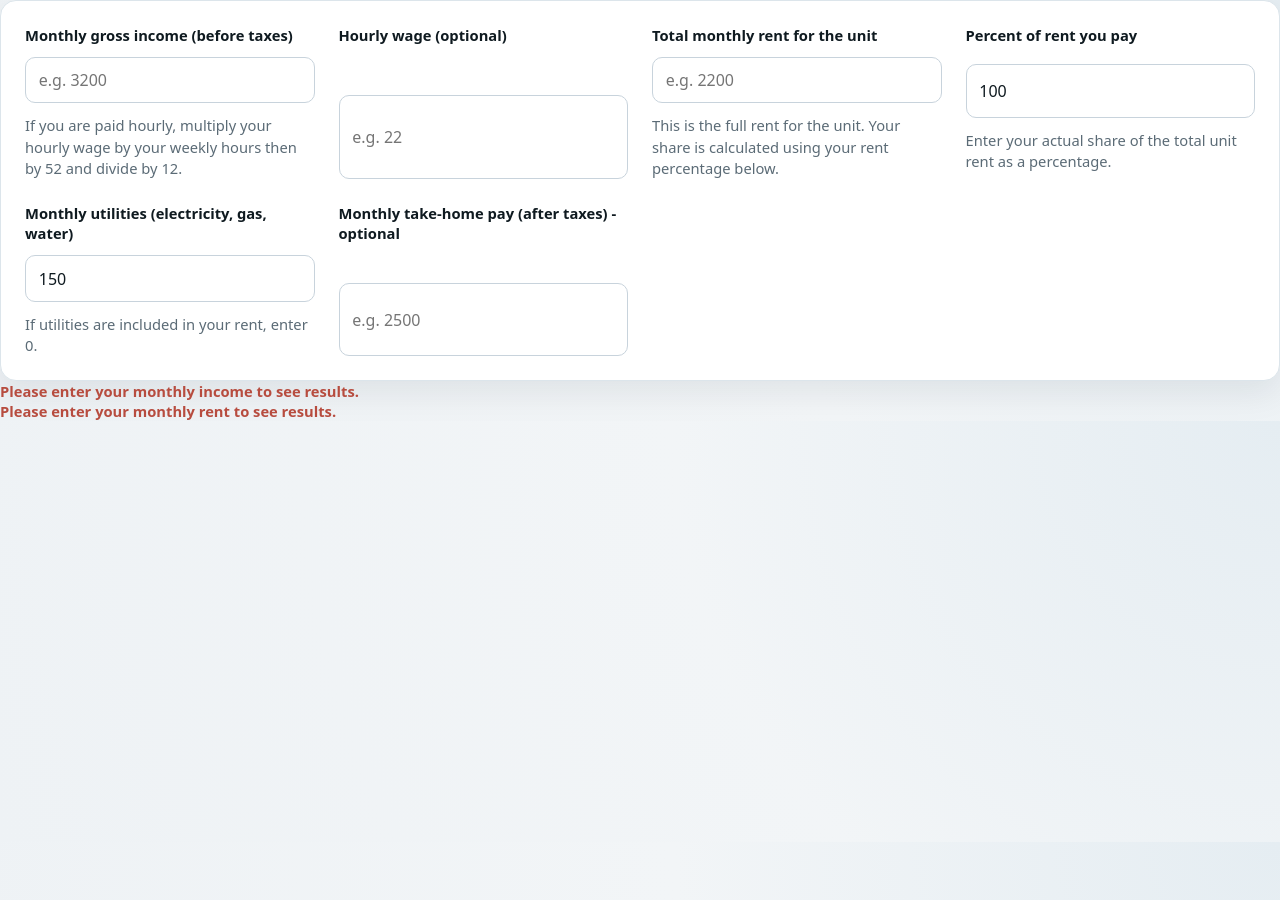
it: AffordabilityCalculator › calculates rent share using entered rent percentage
The width and height of the screenshot is (1280, 900).
Type "5000" into the field labelled "Monthly gross income (before taxes)" at (170, 80), box [25,57,314,103]
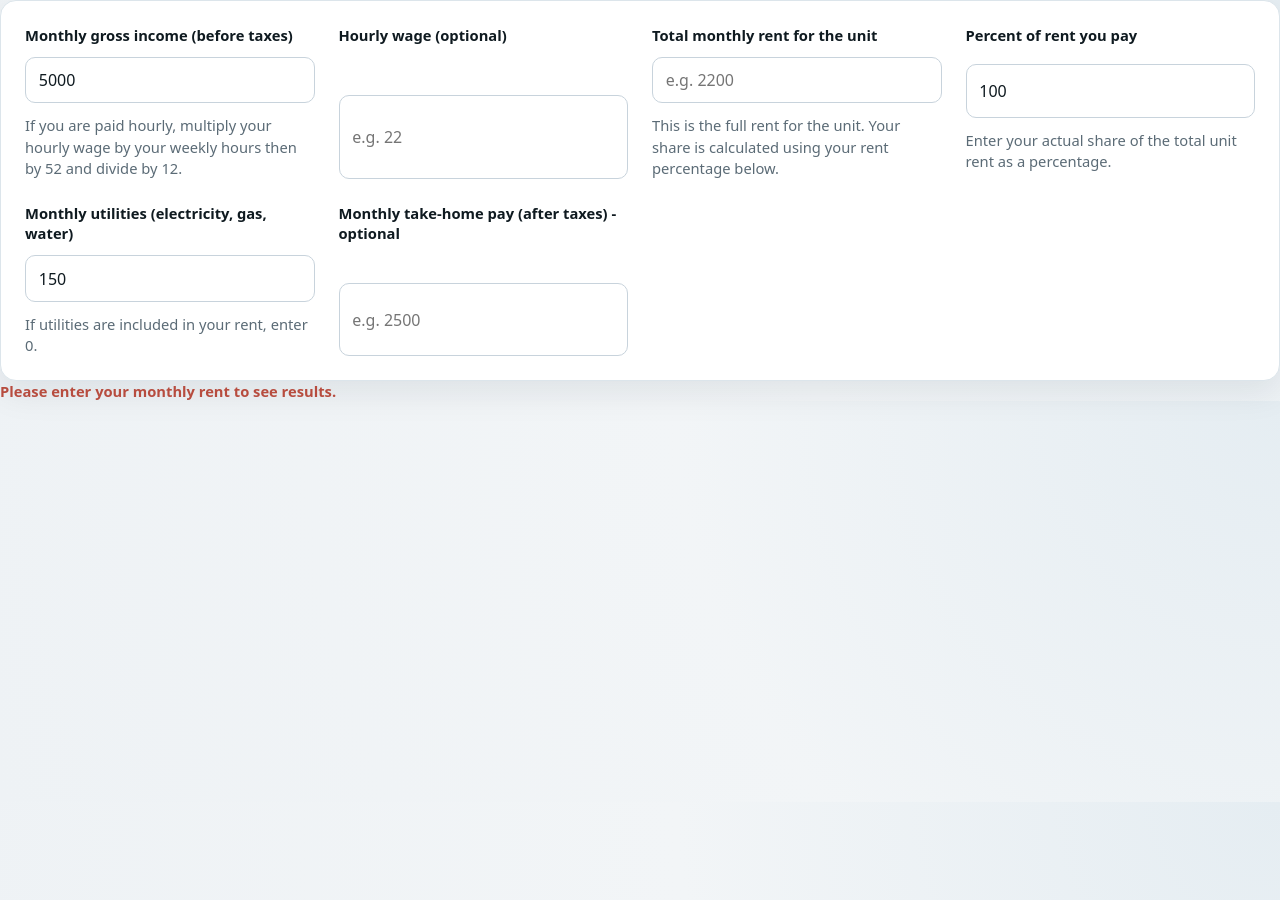
Type "2400" into the field labelled "Total monthly rent for the unit" at (797, 80), box [652,57,942,103]
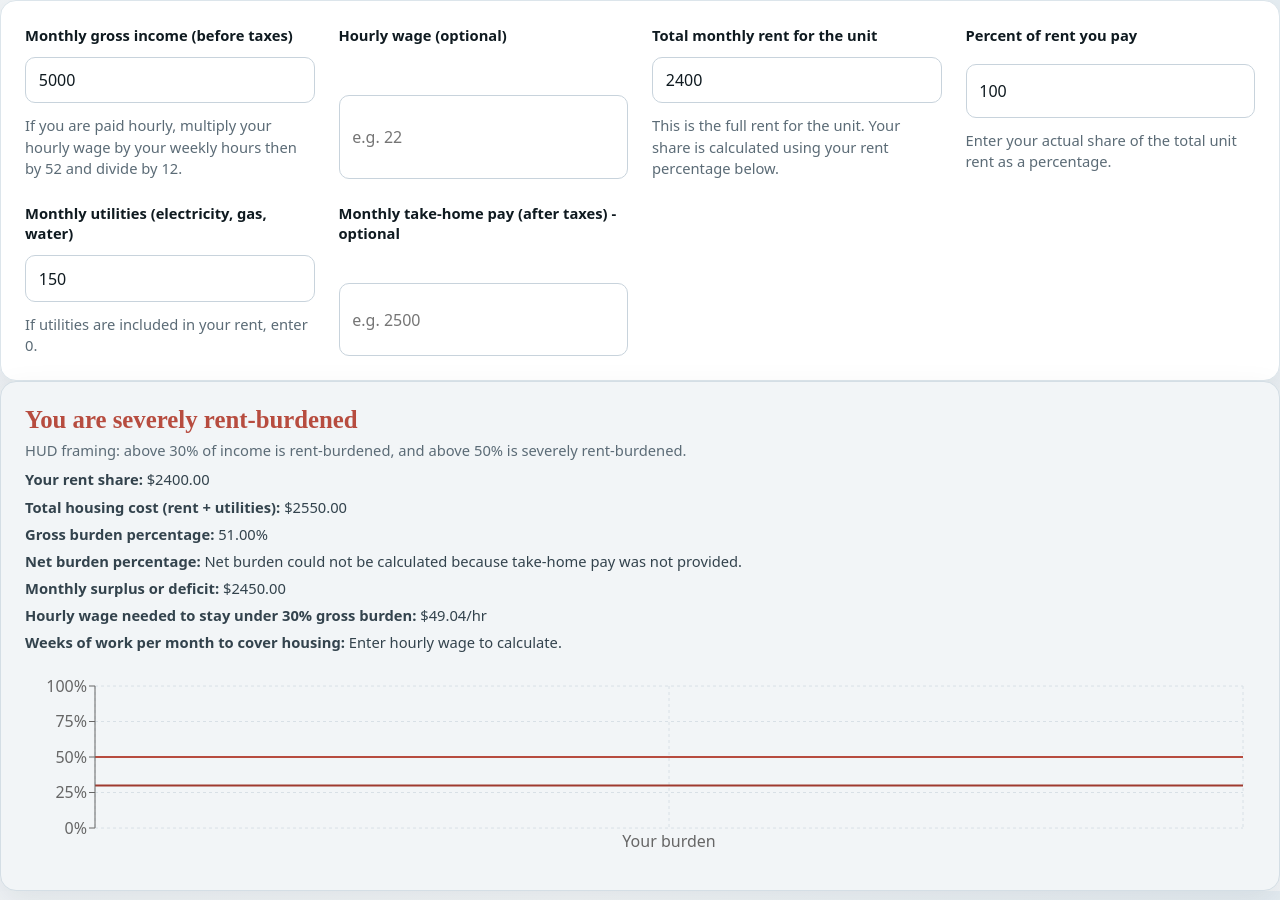
Replace the text in the field labelled "Percent of rent you pay" with "25" at (1110, 91), box [966,64,1255,118]
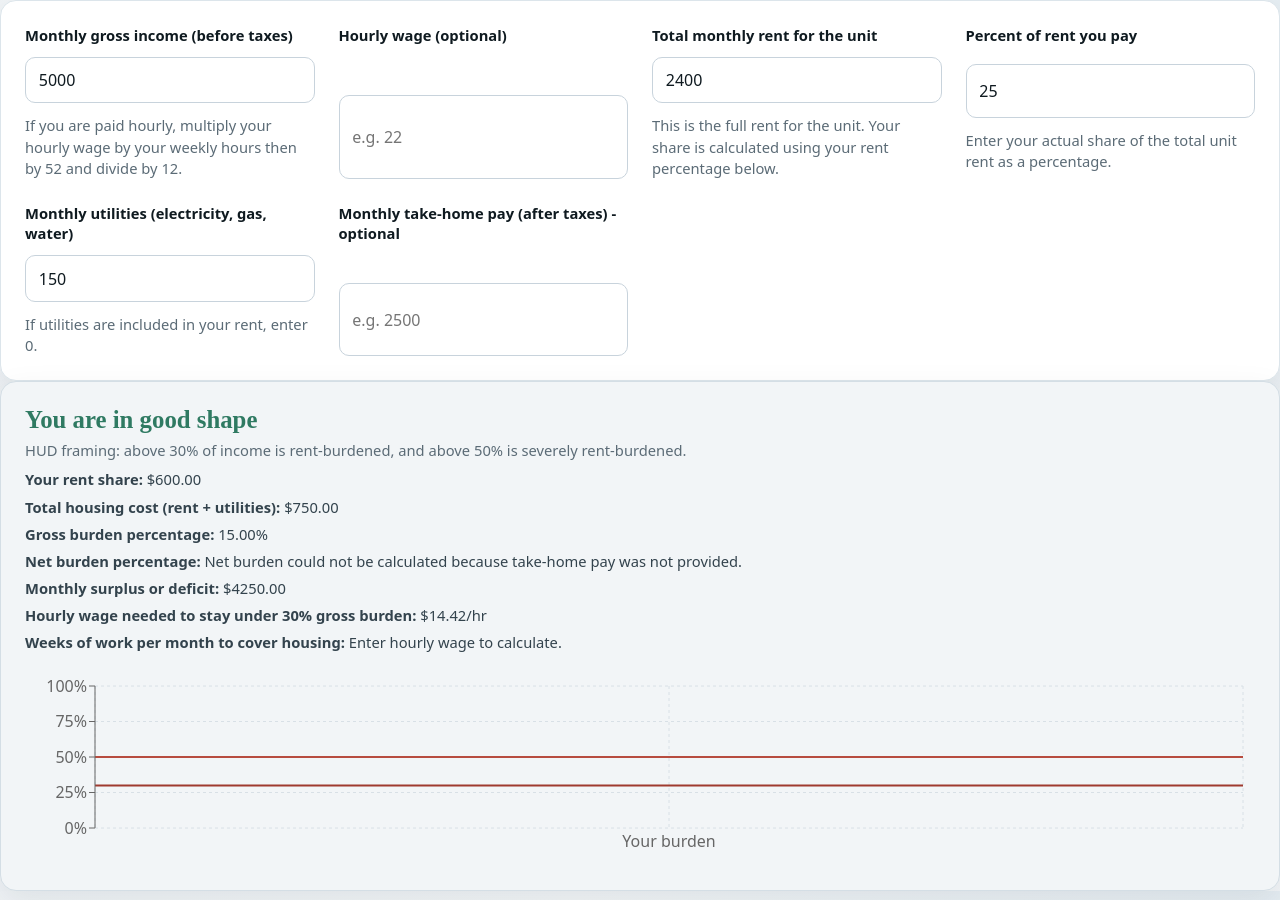
Type "0" into the field labelled "Monthly utilities (electricity, gas, water)" at (170, 279), box [25,255,314,302]
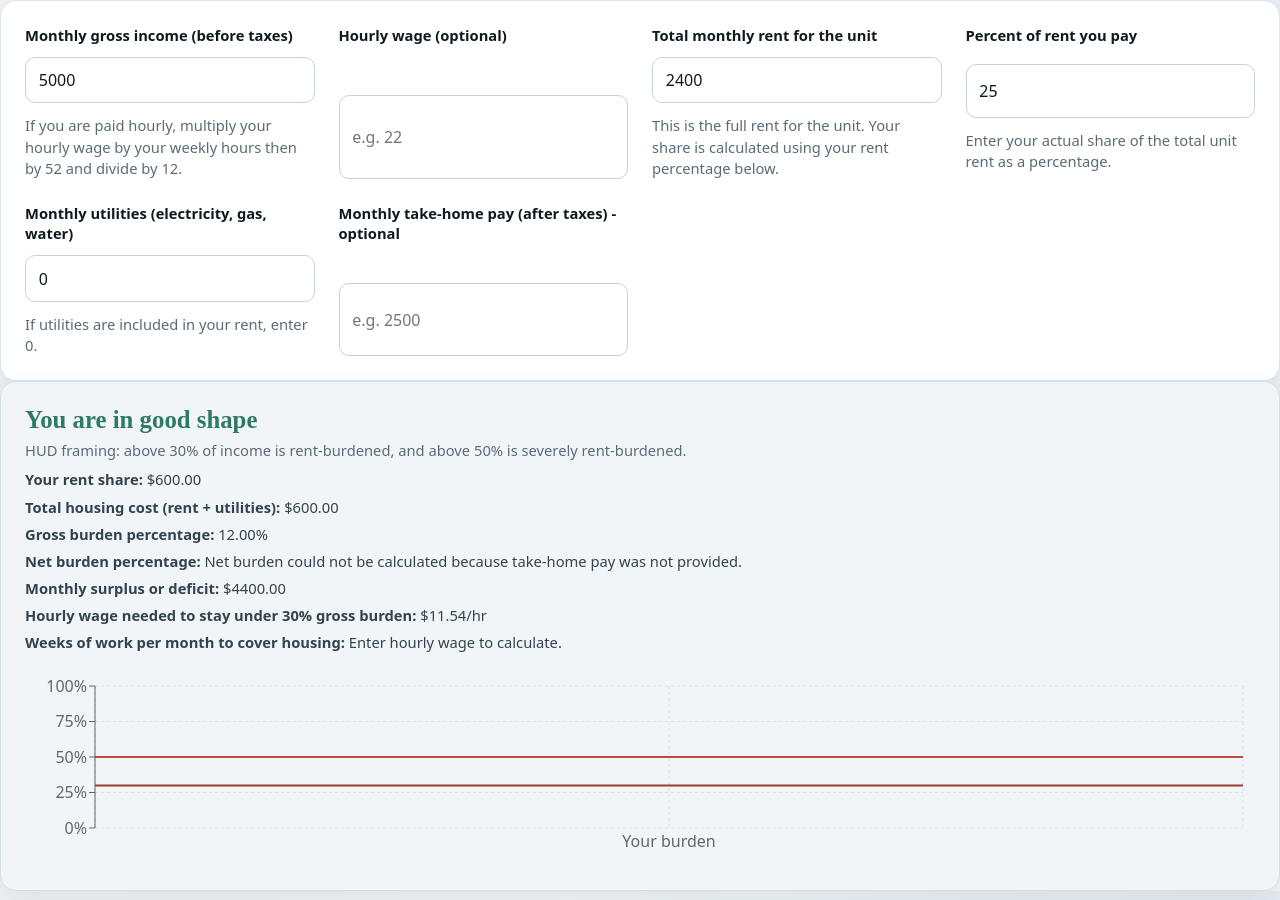
Expected: the text "Your rent share: $600.00" is shown, [25,469,201,489]
Replace the text in the field labelled "Percent of rent you pay" with "50" at (1110, 91), box [966,64,1255,118]
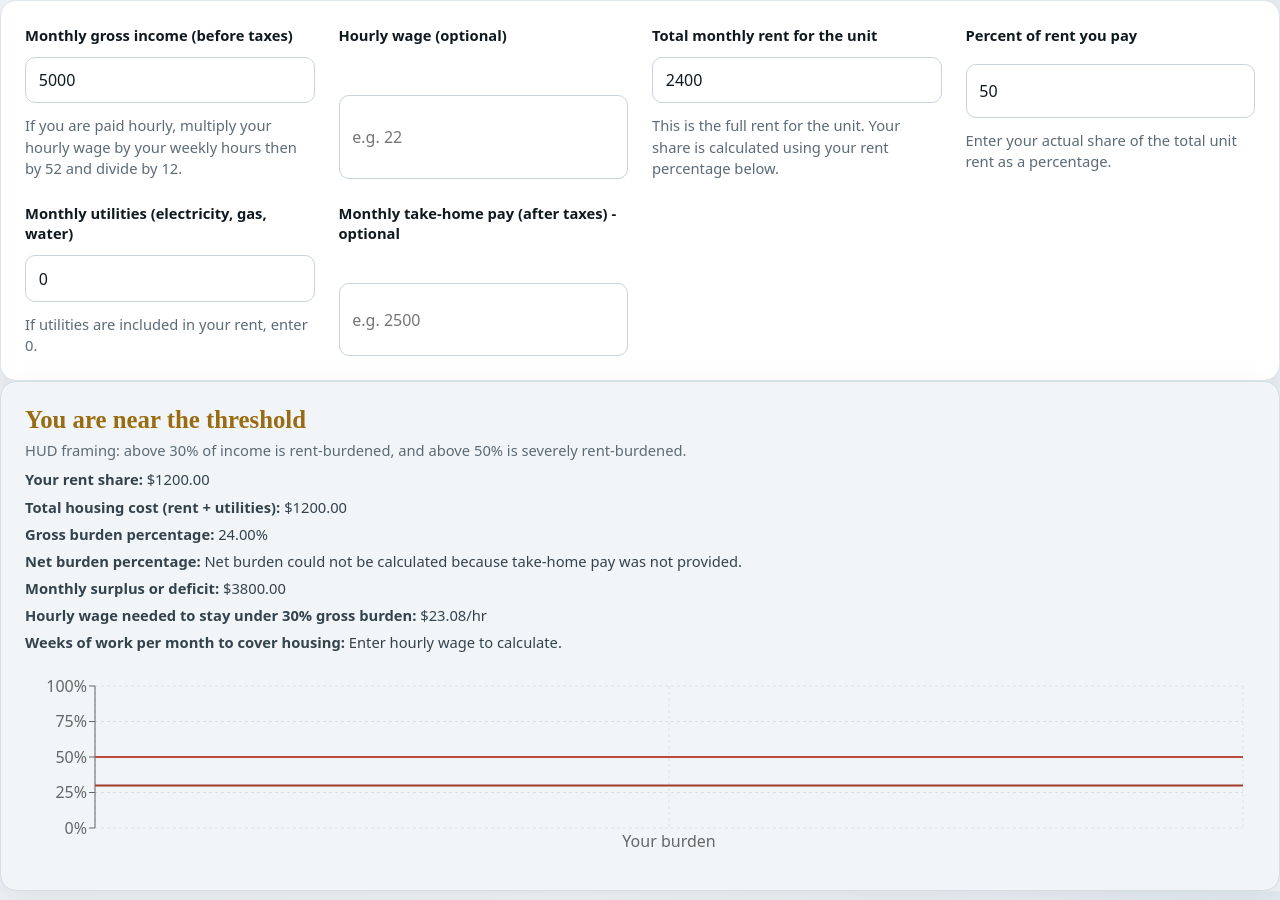
Expected: the text "Your rent share: $1200.00" is shown, [25,469,210,489]
Replace the text in the field labelled "Percent of rent you pay" with "75" at (1110, 91), box [966,64,1255,118]
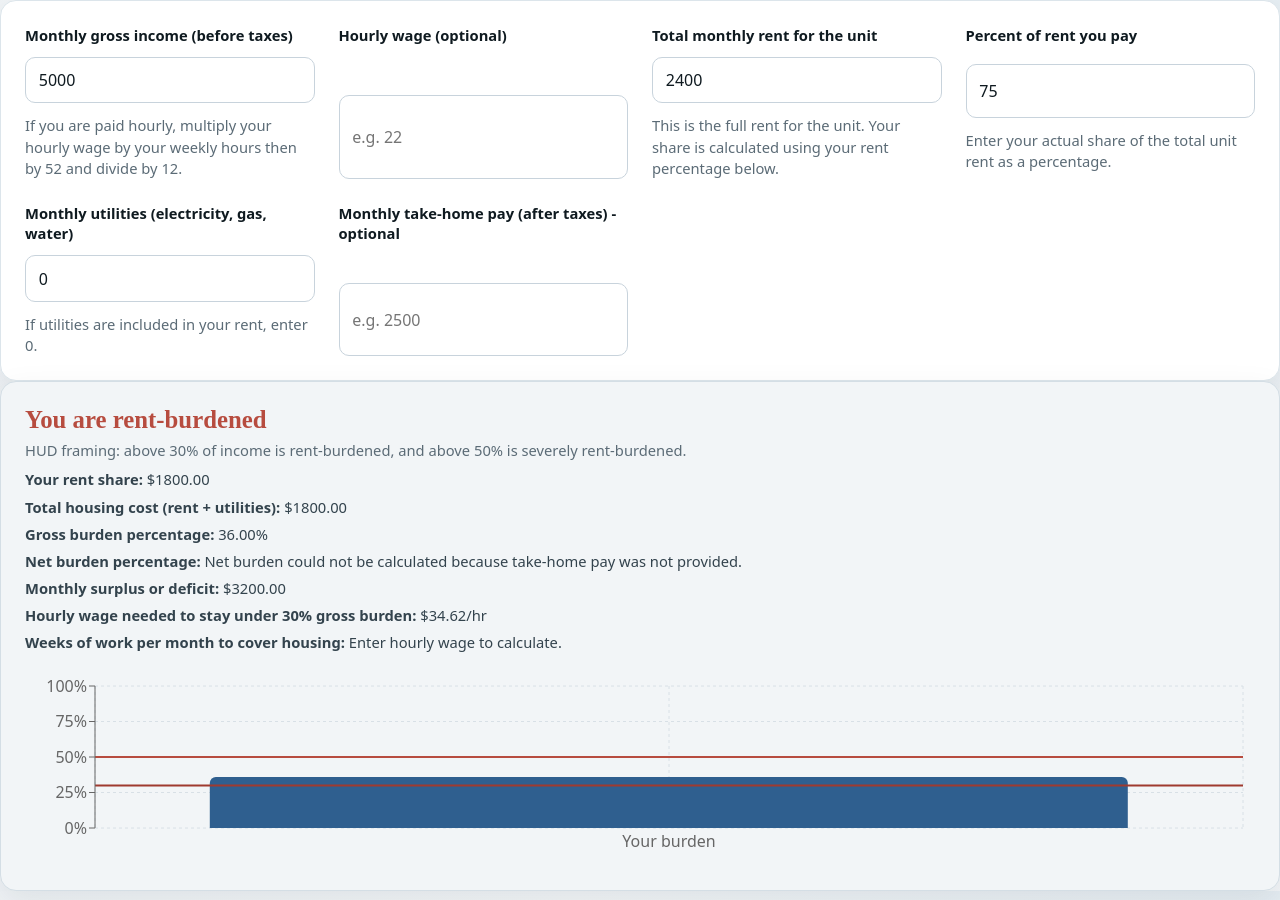
Expected: the text "Your rent share: $1800.00" is shown, [25,469,210,489]
